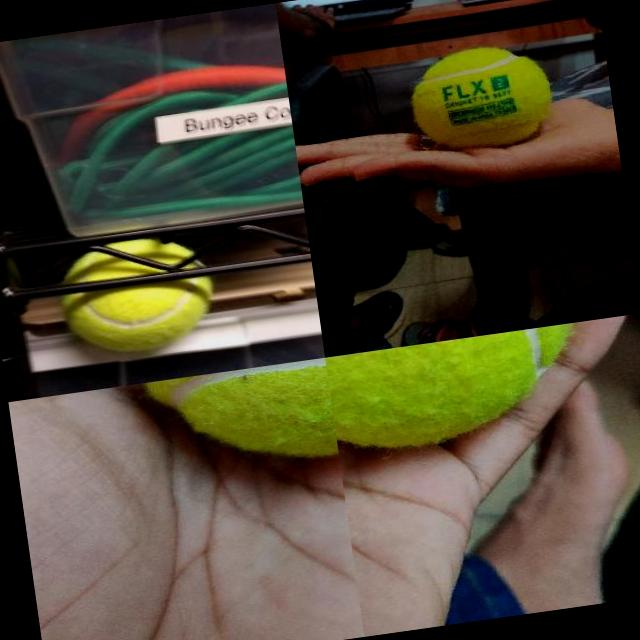tennis-ball: (326, 322, 592, 457), (131, 358, 337, 482), (55, 231, 222, 362), (406, 40, 556, 154)
